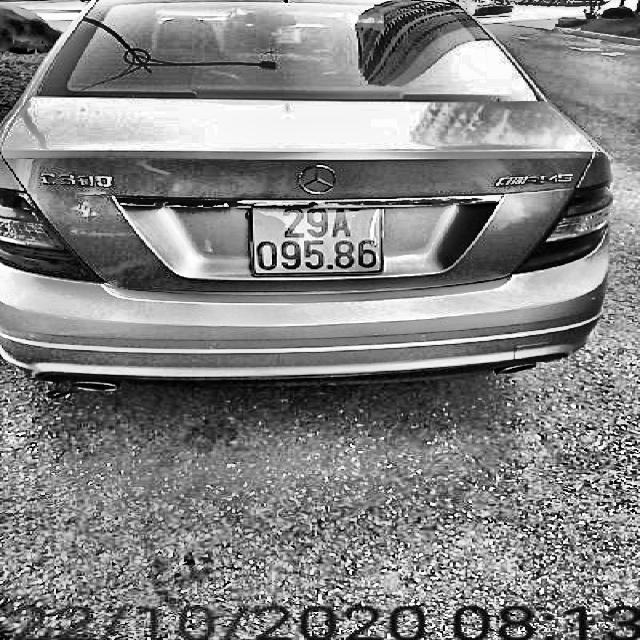plate: (242, 199, 390, 285)
